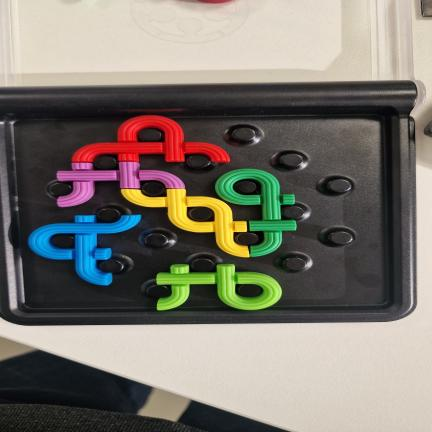A_Yellow: (122, 189, 249, 257)
B_SkyBlue: (29, 216, 141, 285)
D_Green: (216, 169, 296, 256)
E_Red: (72, 116, 230, 162)
H_Purple: (57, 162, 184, 207)
K_YellowGreen: (157, 264, 281, 310)
board: (0, 81, 417, 325)
hinge: (0, 83, 424, 110)
pin: (188, 207, 214, 222), (141, 181, 166, 196), (232, 127, 256, 142), (279, 153, 303, 168), (186, 154, 210, 169), (236, 284, 263, 297), (327, 179, 352, 193), (51, 234, 74, 249), (144, 233, 168, 247), (329, 231, 353, 245), (100, 259, 124, 273), (139, 128, 162, 142), (49, 182, 72, 196), (234, 180, 257, 194), (282, 206, 305, 220), (97, 208, 120, 222), (283, 257, 306, 271), (191, 258, 214, 272), (94, 156, 116, 170), (235, 232, 258, 245), (147, 285, 170, 298)
